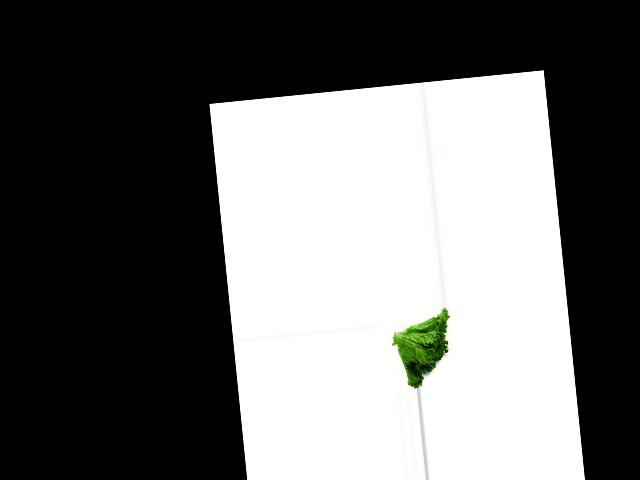lettuce: (390, 307, 458, 390)
